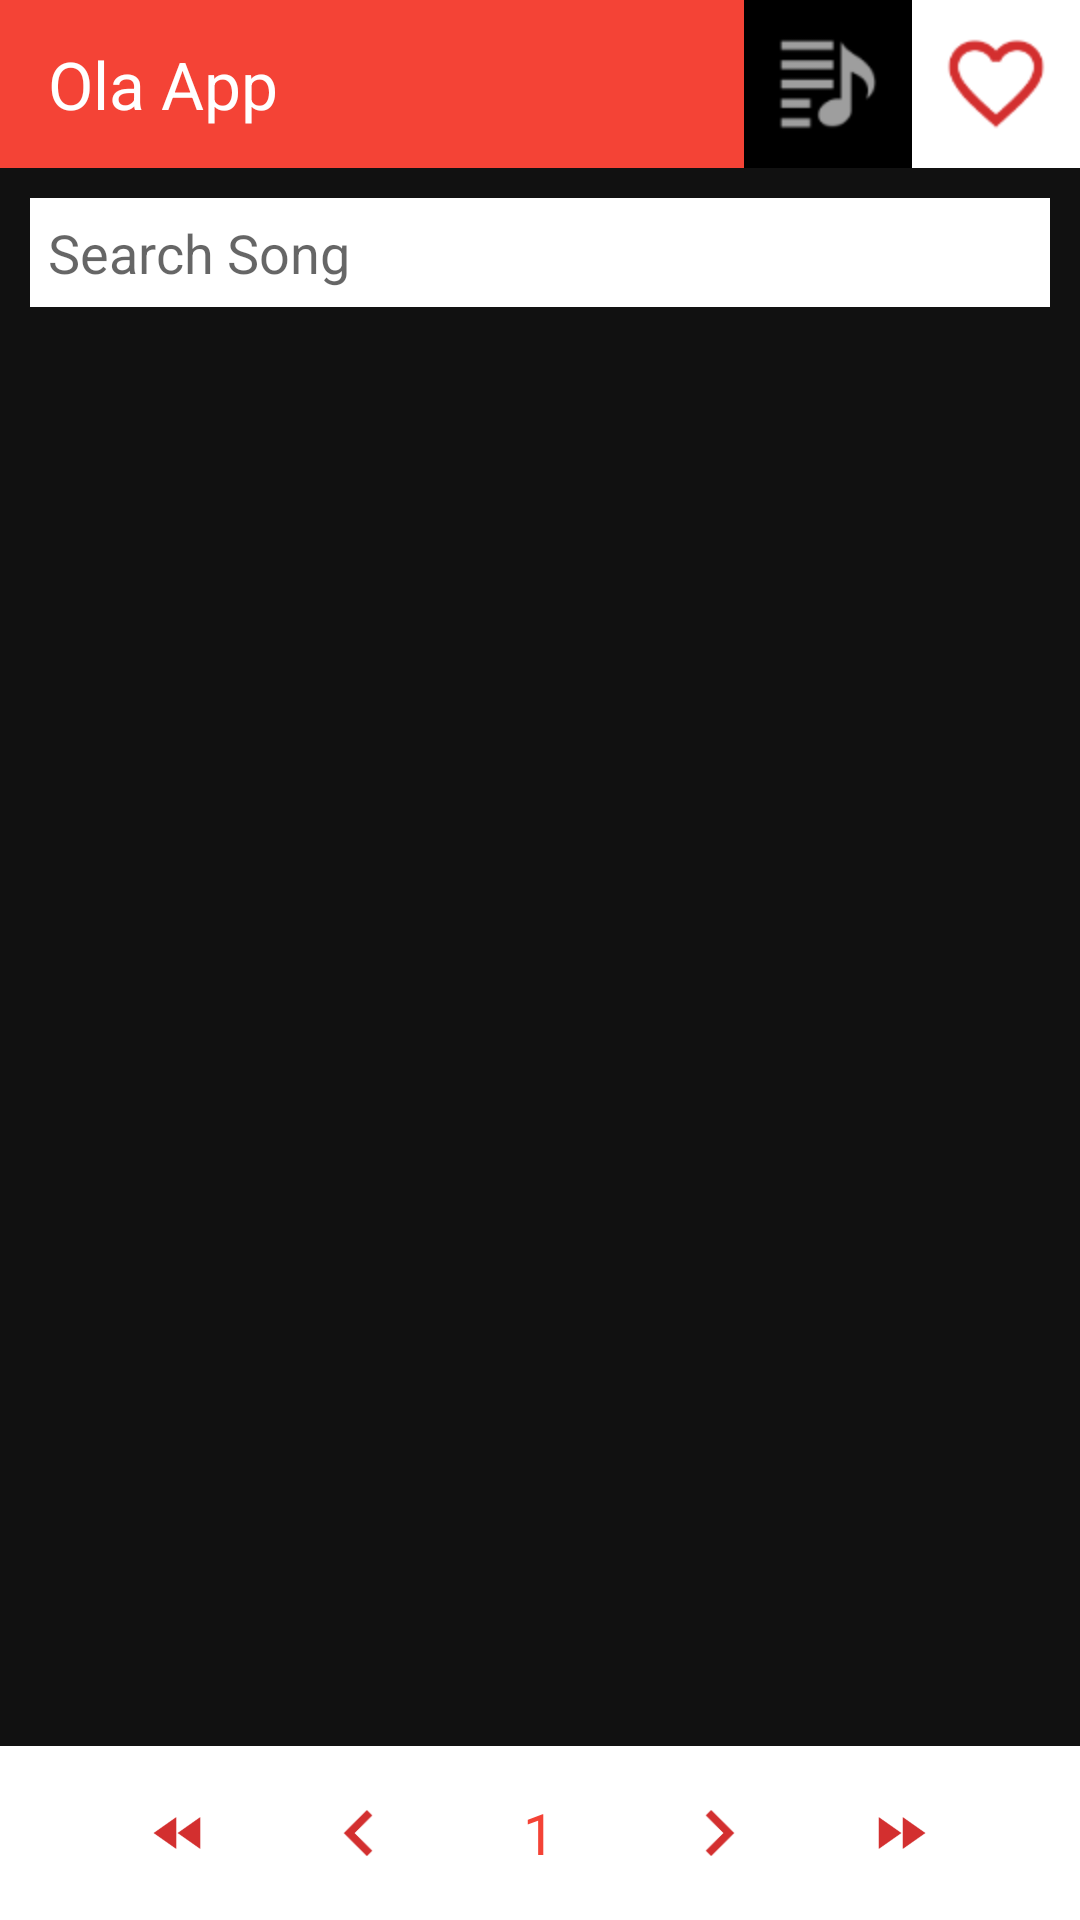

Icon click points for this 1080px×1920px phone screenshot, format point (x, y):
fast forward: point (901, 1833)
fast rewind: point (177, 1833)
next: point (720, 1833)
nofav: point (996, 84)
playlist: point (828, 84)
prev: point (358, 1833)
